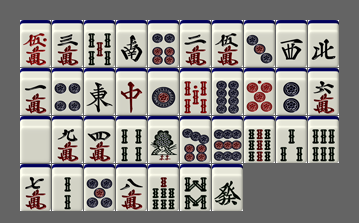0m: (20, 20, 51, 67)
0p: (244, 68, 275, 115)
0s: (180, 68, 211, 115)
1m: (20, 68, 51, 115)
1p: (148, 68, 179, 115)
1s: (148, 116, 179, 163)
1z: (84, 68, 115, 115)
2m: (180, 20, 211, 67)
2p: (276, 68, 307, 115)
2s: (52, 164, 83, 211)
2z: (116, 20, 147, 67)
3m: (52, 20, 83, 67)
3p: (244, 20, 275, 67)
3s: (276, 116, 307, 163)
3z: (276, 20, 307, 67)
4m: (84, 116, 115, 163)
4p: (52, 68, 83, 115)
4s: (116, 116, 147, 163)
4z: (308, 20, 339, 67)
5m: (212, 20, 243, 67)
5p: (84, 164, 115, 211)
5s: (84, 20, 115, 67)
5z: (20, 116, 51, 163)
6m: (308, 68, 339, 115)
6p: (148, 20, 179, 67)
6s: (308, 116, 339, 163)
6z: (212, 164, 243, 211)
7m: (20, 164, 51, 211)
7p: (180, 116, 211, 163)
7s: (148, 164, 179, 211)
7z: (116, 68, 147, 115)
8m: (116, 164, 147, 211)
8p: (212, 68, 243, 115)
8s: (180, 164, 211, 211)
9m: (52, 116, 83, 163)
9p: (212, 116, 243, 163)
9s: (244, 116, 275, 163)
